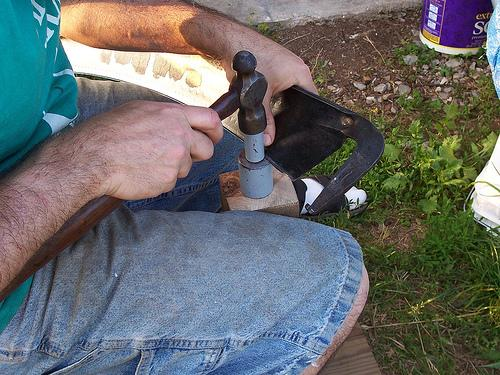hammer: (203, 48, 269, 135)
